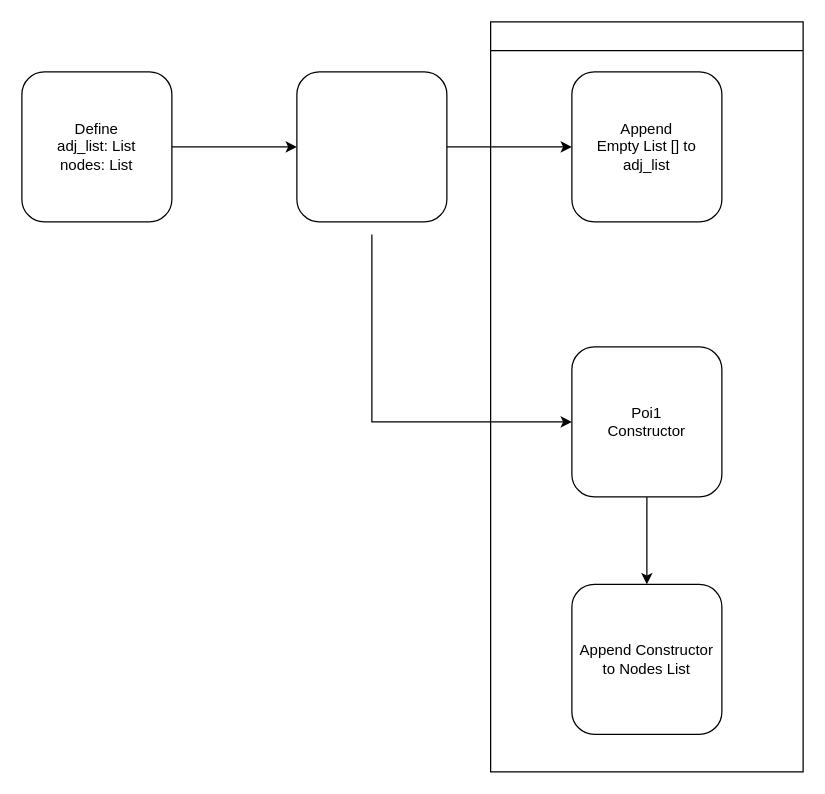
Image size: 825x794. Some labels were removed from this diagram. Here are the shapes that lost their labels. From the top down, the centre of each, then its label:
At (371,146): "Open CSV File 'addpois.csv'".
At (646,396): "for loop in range(number of rows)".
